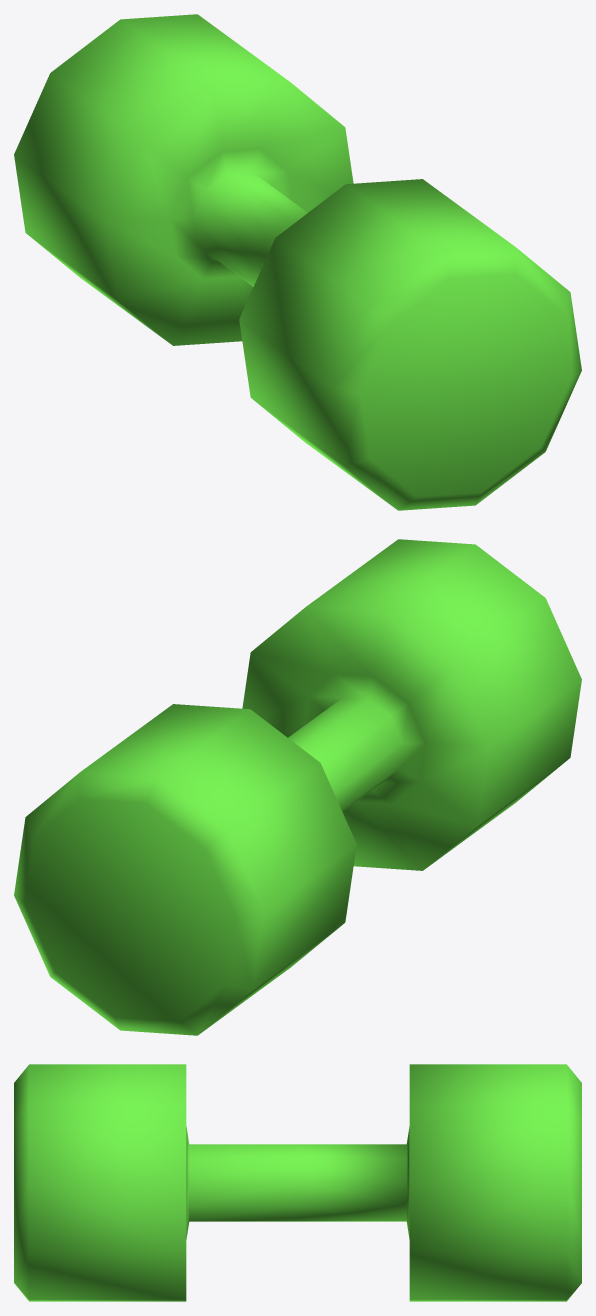
The model's file is ColorfulDumbbells.fbx.
3 renders of one model, top to bottom at view 1: azimuth 30°, elevation 25°; view 2: azimuth 150°, elevation 25°; view 3: azimuth 270°, elevation 25°, orthographic. The views are drawn at different scales.
Parts seen in each view (by area): view 1: ColurfulDumbbells.001; view 2: ColurfulDumbbells.001; view 3: ColurfulDumbbells.001.
Boxes of the visible parts, x1,y1,x2,y2 form: ColurfulDumbbells.001: (14,14,581,510); ColurfulDumbbells.001: (14,539,581,1035); ColurfulDumbbells.001: (14,1064,581,1301).
Bounding box in the file's own units: 5.44 × 5.46 × 12.68.
